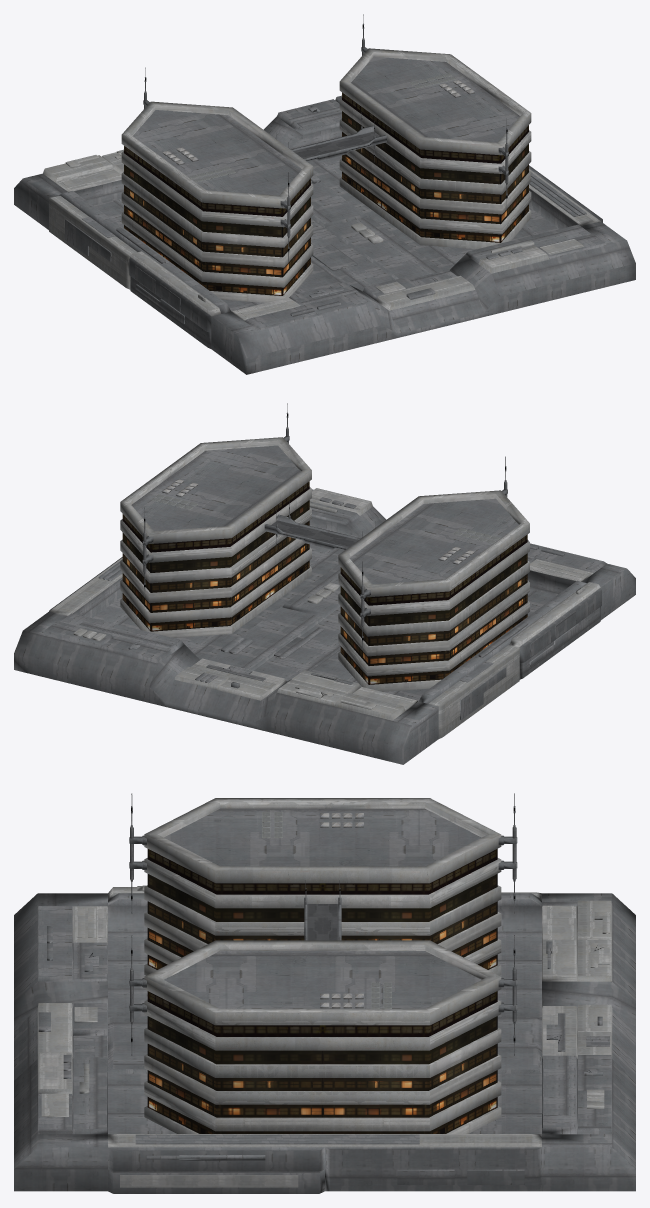
The model's file is CityBlock006.fbx.
3 renders of one model, top to bottom at view 1: azimuth 30°, elevation 25°; view 2: azimuth 150°, elevation 25°; view 3: azimuth 270°, elevation 25°, orthographic. The views are drawn at different scales.
Parts seen in each view (by area): view 1: SMCGBlock46.Shape; view 2: SMCGBlock46.Shape; view 3: SMCGBlock46.Shape.
Part boxes in pixels (x1,y1,x2,y2): SMCGBlock46.Shape: [14, 14, 635, 374]; SMCGBlock46.Shape: [14, 403, 635, 764]; SMCGBlock46.Shape: [14, 793, 635, 1193].
Size of the model in its own units: 741 by 266 by 749.
